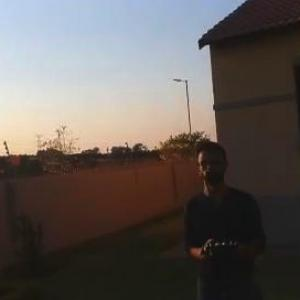follow: (174, 137, 269, 299)
